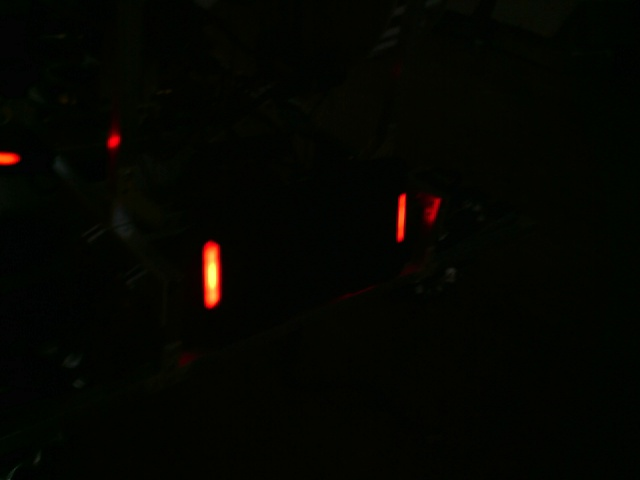lamp: (198, 236, 226, 311), (391, 189, 409, 245)
